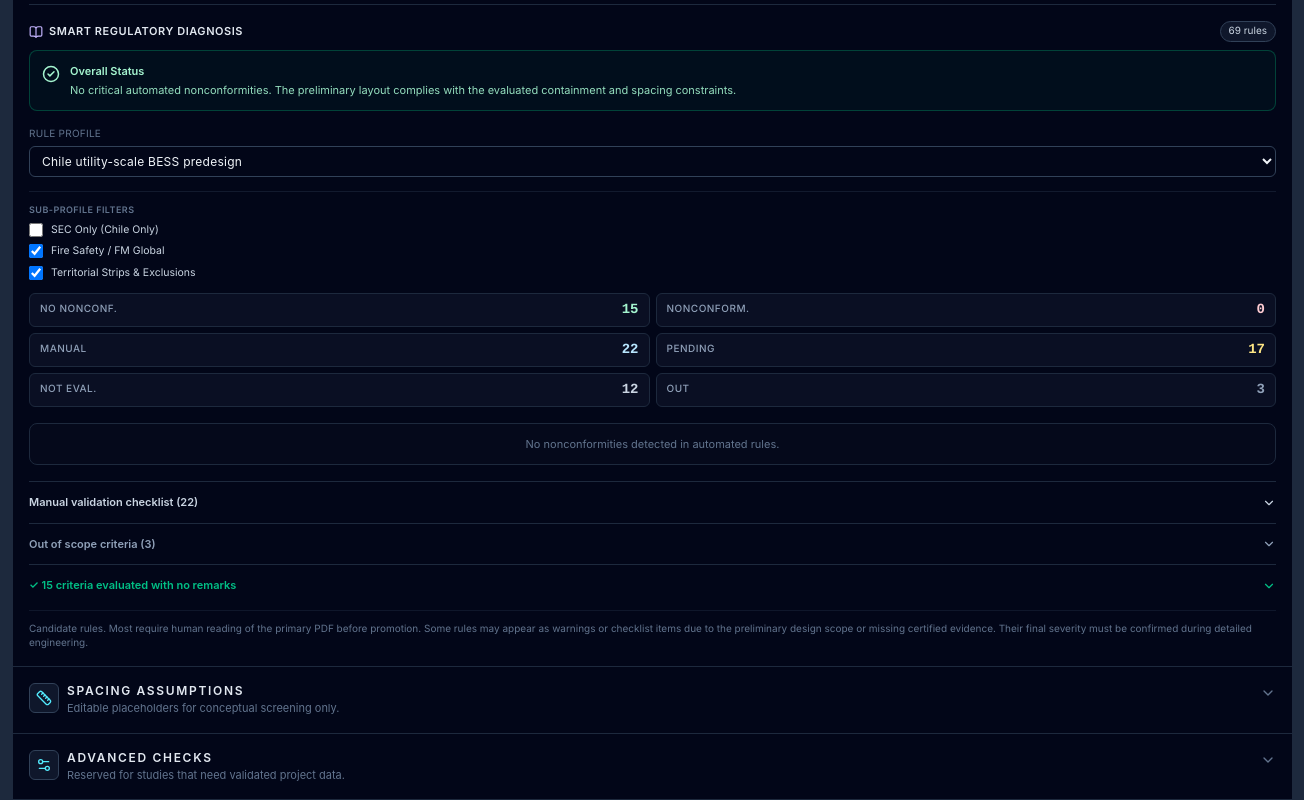
Scenario: SectionPanelHost › labels advanced checks as a guidance checklist
(page scrolled)
What coordinates should you click on to do the following:
click the heading "Advanced checks"
I would click on:
 (140, 757)
Its box is [67,750,213,764].
(page scrolled)
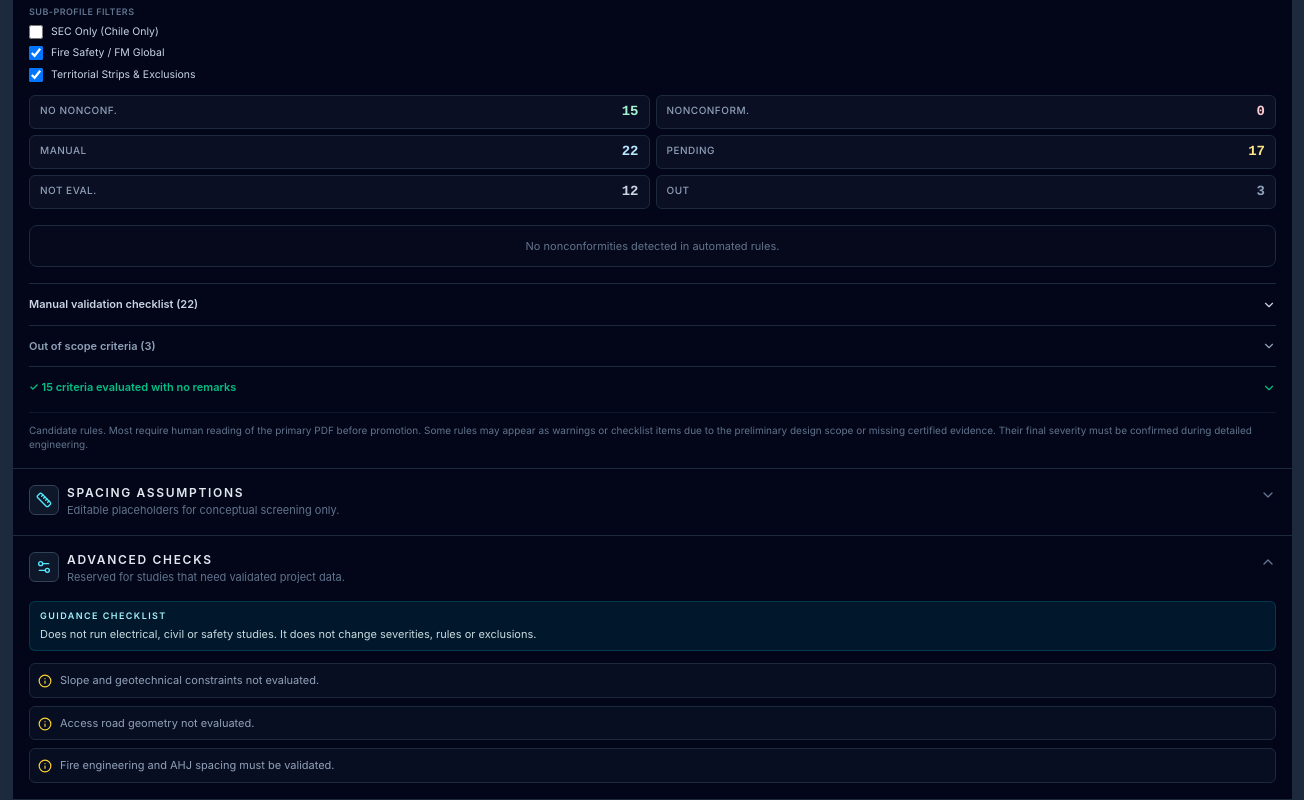
Expected: the text "Guidance checklist" is shown, [40,611,167,622]
Expected: the text "Does not run electrical, civil or safety studies" is shown, [40,627,536,641]
